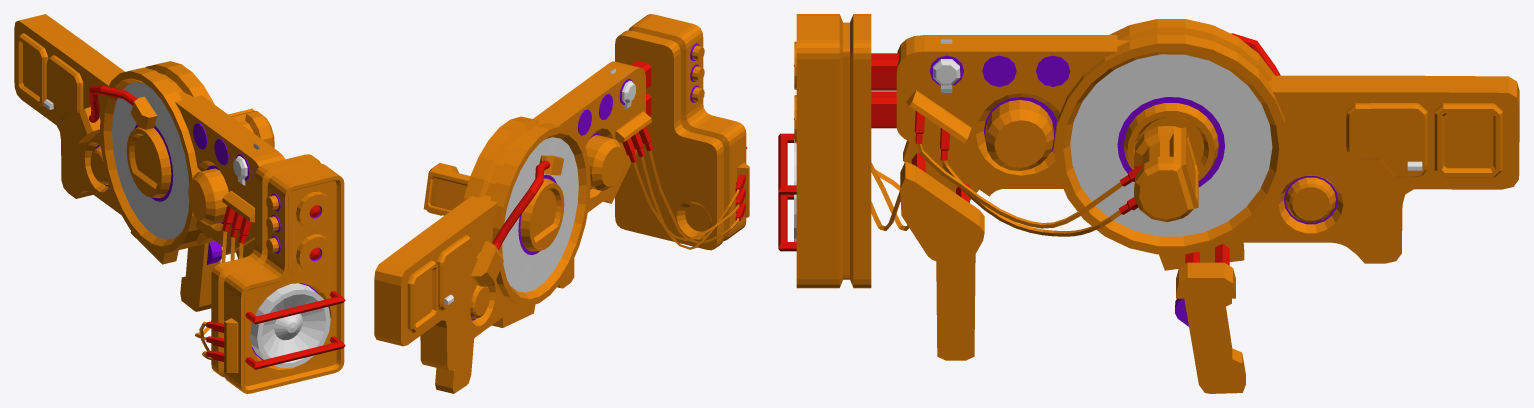
The model's file is dubstepgun v0.3.dae.
3 renders of one model, left to right at view 1: azimuth 30°, elevation 25°; view 2: azimuth 150°, elevation 25°; view 3: azimuth 270°, elevation 25°, orthographic. The views are drawn at different scales.
Parts seen in each view (by area): view 1: DubStepGun, DubStepGun.004, DubStepGun.007, DubStepGun.001; view 2: DubStepGun, DubStepGun.004; view 3: DubStepGun, DubStepGun.004, DubStepGun.001.
Part boxes in pixels (x1=…): DubStepGun: x1=14, y1=14, x2=345, y2=393; DubStepGun.004: x1=112, y1=82, x2=189, y2=239; DubStepGun.007: x1=250, y1=283, x2=330, y2=368; DubStepGun.001: x1=233, y1=143, x2=259, y2=185; DubStepGun: x1=374, y1=14, x2=749, y2=393; DubStepGun.004: x1=502, y1=137, x2=578, y2=292; DubStepGun: x1=778, y1=14, x2=1519, y2=393; DubStepGun.004: x1=1070, y1=54, x2=1272, y2=236; DubStepGun.001: x1=933, y1=38, x2=960, y2=92.
Size of the model in its own units: 12.74 by 35.16 by 17.14.
